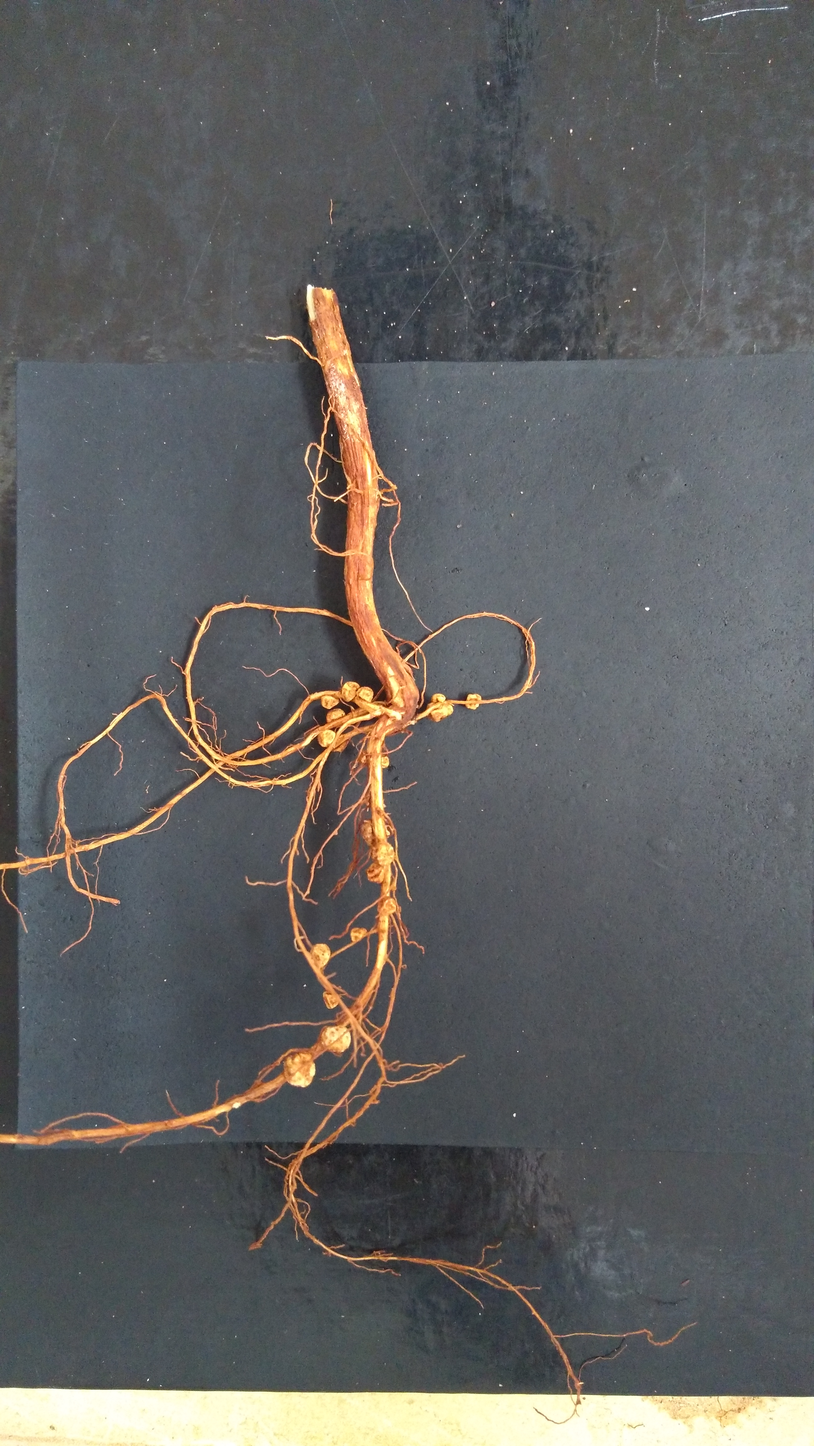nodule: (282, 1051, 318, 1088), (319, 1024, 354, 1055), (308, 942, 333, 972), (425, 701, 454, 723), (373, 840, 396, 865), (364, 861, 385, 886), (329, 732, 352, 754), (376, 896, 399, 917), (340, 679, 360, 703), (359, 818, 374, 846), (348, 925, 369, 944), (356, 683, 374, 705), (321, 990, 340, 1010), (324, 708, 349, 723), (316, 728, 335, 746), (320, 694, 340, 709), (465, 693, 482, 710), (430, 692, 446, 703), (379, 756, 390, 769)
